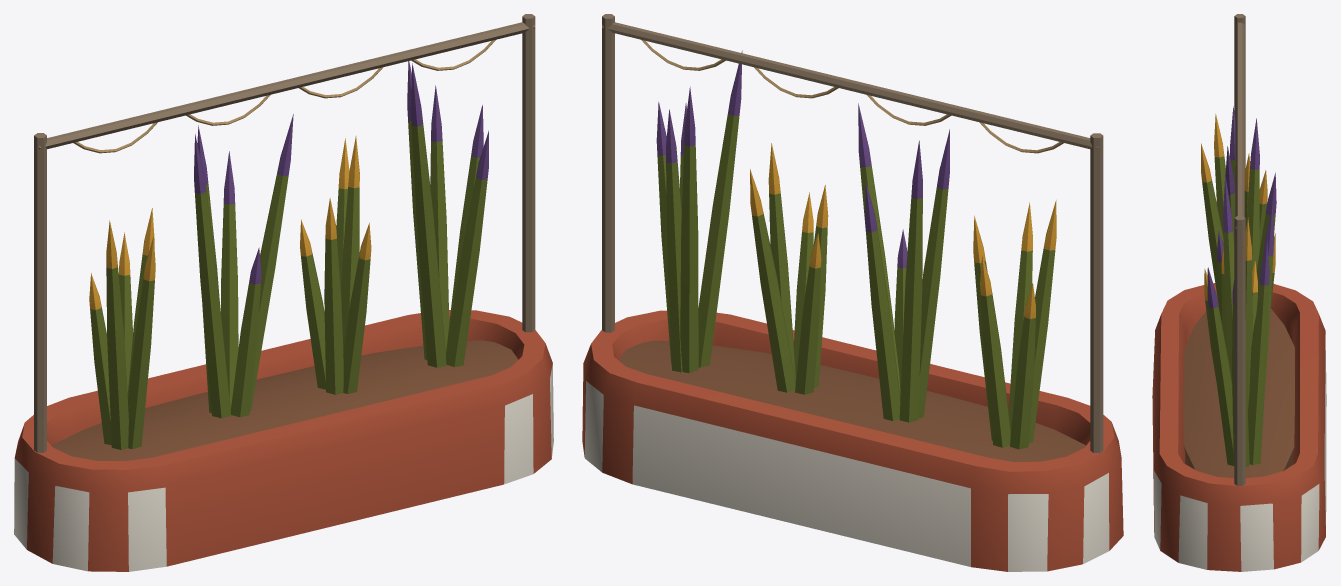
Rendered from deco_planter_bed_spikes.fbx.
3 renders of one model, left to right at view 1: azimuth 30°, elevation 25°; view 2: azimuth 150°, elevation 25°; view 3: azimuth 270°, elevation 25°, orthographic. The views are drawn at different scales.
Parts seen in each view (by area): view 1: PlanterBed_Spikes_Bed, PlanterBed_Spikes_Soil, PlanterBed_Spikes_Trellis, PlanterBed_Spikes_Spikes2, PlanterBed_Spikes_Spikes4, PlanterBed_Spikes_Spikes3, PlanterBed_Spikes_Spikes1; view 2: PlanterBed_Spikes_Bed, PlanterBed_Spikes_Trellis, PlanterBed_Spikes_Soil, PlanterBed_Spikes_Spikes2, PlanterBed_Spikes_Spikes4, PlanterBed_Spikes_Spikes3, PlanterBed_Spikes_Spikes1; view 3: PlanterBed_Spikes_Bed, PlanterBed_Spikes_Soil, PlanterBed_Spikes_Spikes4, PlanterBed_Spikes_Trellis, PlanterBed_Spikes_Spikes2, PlanterBed_Spikes_Spikes1, PlanterBed_Spikes_Spikes3.
Part boxes in pixels (x1=…): PlanterBed_Spikes_Bed: x1=14, y1=310, x2=553, y2=571; PlanterBed_Spikes_Soil: x1=52, y1=340, x2=518, y2=461; PlanterBed_Spikes_Trellis: x1=34, y1=14, x2=535, y2=452; PlanterBed_Spikes_Spikes2: x1=194, y1=114, x2=293, y2=418; PlanterBed_Spikes_Spikes4: x1=407, y1=61, x2=488, y2=367; PlanterBed_Spikes_Spikes3: x1=300, y1=135, x2=371, y2=394; PlanterBed_Spikes_Spikes1: x1=89, y1=208, x2=155, y2=449; PlanterBed_Spikes_Bed: x1=582, y1=310, x2=1123, y2=571; PlanterBed_Spikes_Trellis: x1=602, y1=14, x2=1103, y2=452; PlanterBed_Spikes_Soil: x1=618, y1=340, x2=1085, y2=461; PlanterBed_Spikes_Spikes2: x1=858, y1=103, x2=949, y2=422; PlanterBed_Spikes_Spikes4: x1=656, y1=50, x2=742, y2=373; PlanterBed_Spikes_Spikes3: x1=750, y1=143, x2=828, y2=394; PlanterBed_Spikes_Spikes1: x1=973, y1=200, x2=1056, y2=449; PlanterBed_Spikes_Bed: x1=1152, y1=283, x2=1326, y2=571; PlanterBed_Spikes_Soil: x1=1183, y1=309, x2=1294, y2=478; PlanterBed_Spikes_Spikes4: x1=1207, y1=175, x2=1273, y2=466; PlanterBed_Spikes_Trellis: x1=1234, y1=14, x2=1245, y2=485; PlanterBed_Spikes_Spikes2: x1=1217, y1=106, x2=1276, y2=322; PlanterBed_Spikes_Spikes1: x1=1201, y1=113, x2=1267, y2=321; PlanterBed_Spikes_Spikes3: x1=1204, y1=217, x2=1275, y2=407.
Bounding box in the file's own units: 274 × 211 × 94.68.
